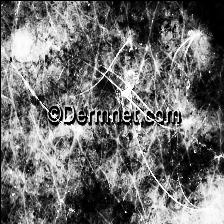Potentially Malignant Skin Tumors: (13, 38, 174, 99), (81, 174, 132, 224), (164, 136, 224, 178)
